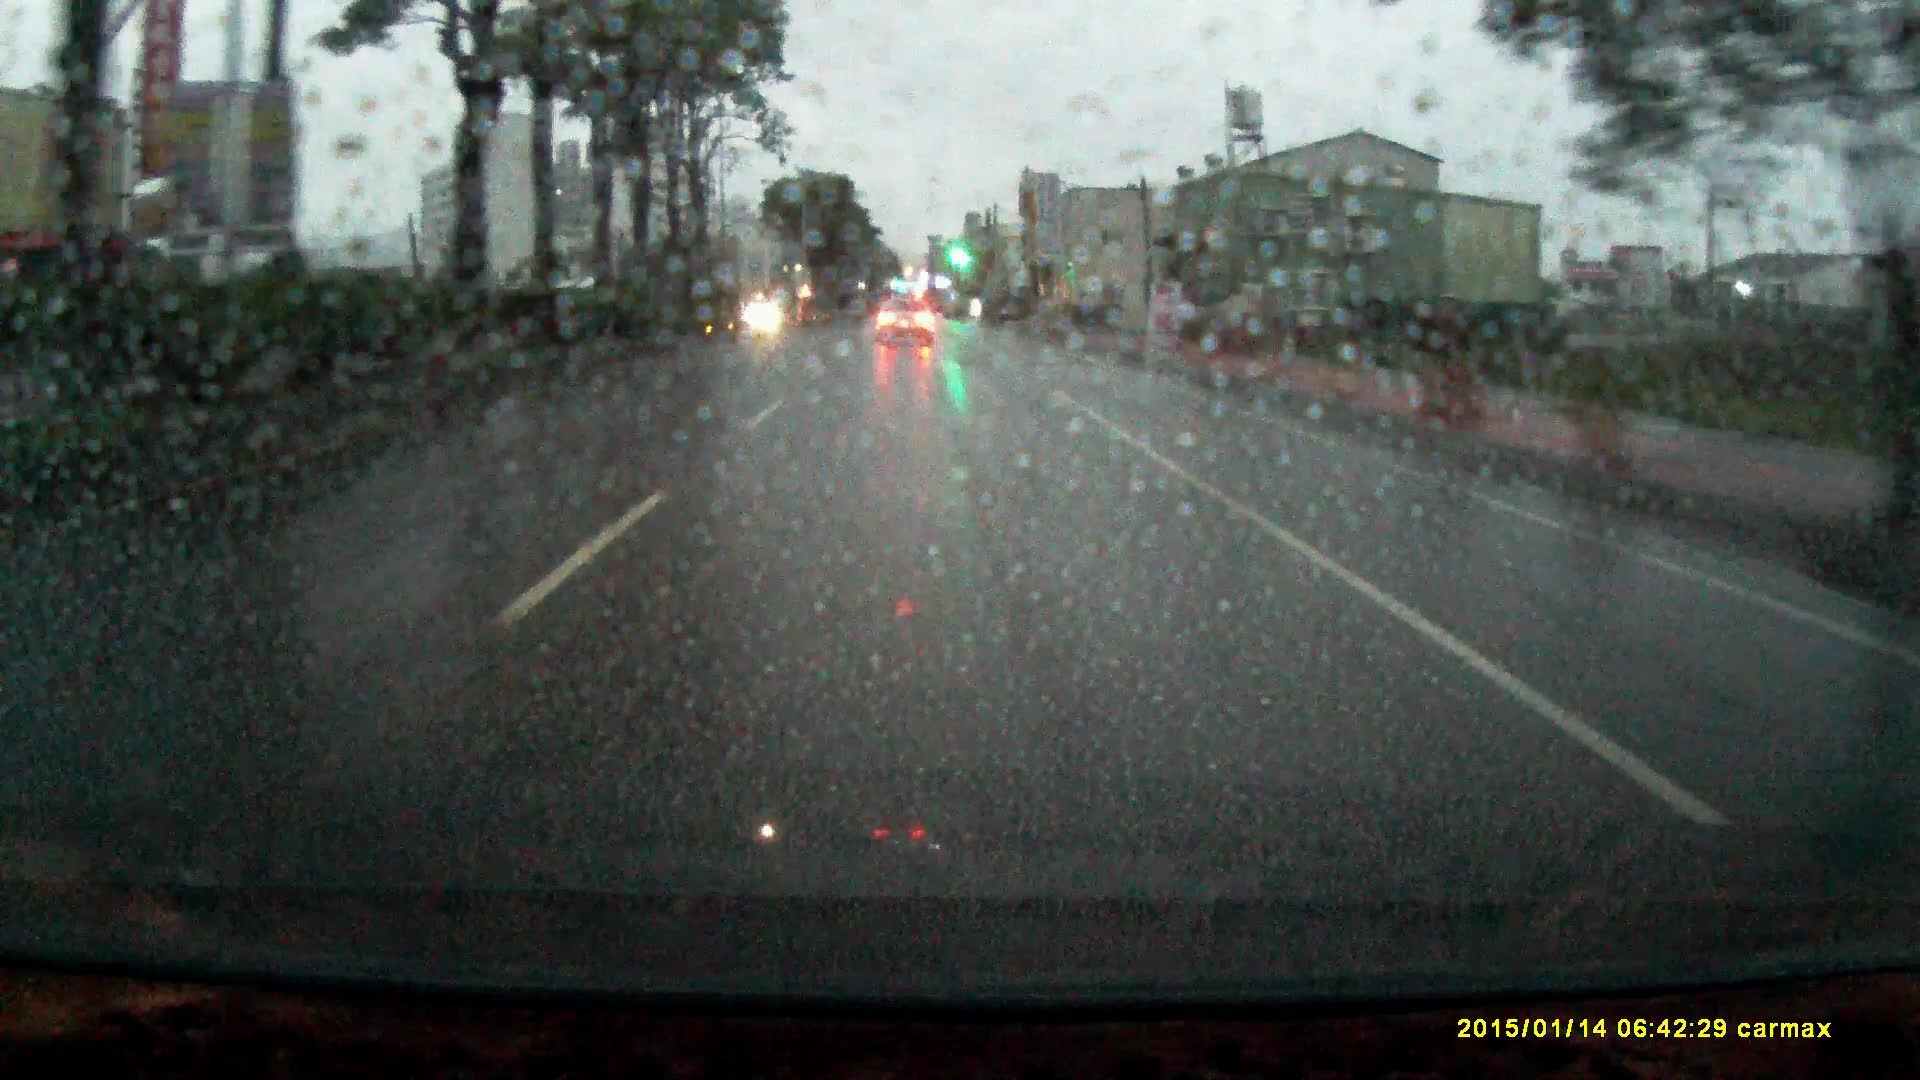vehicle: (876, 297, 935, 347)
